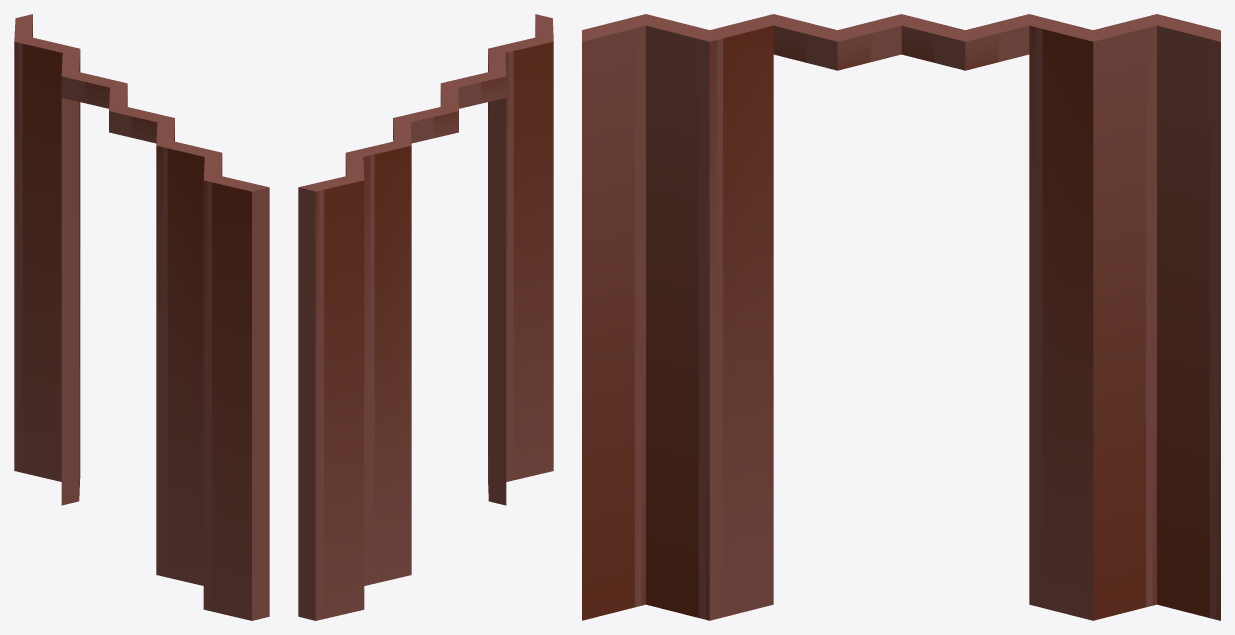
The model's file is Environment_RifledDoorway_01.fbx.
3 renders of one model, left to right at view 1: azimuth 30°, elevation 25°; view 2: azimuth 150°, elevation 25°; view 3: azimuth 270°, elevation 25°, orthographic. The views are drawn at different scales.
Parts seen in each view (by area): view 1: Environment_RifledDoorway_01; view 2: Environment_RifledDoorway_01; view 3: Environment_RifledDoorway_01.
Part boxes in pixels (x1=…): Environment_RifledDoorway_01: x1=14, y1=14, x2=269, y2=620; Environment_RifledDoorway_01: x1=298, y1=14, x2=553, y2=620; Environment_RifledDoorway_01: x1=582, y1=14, x2=1220, y2=620.
Bounding box in the file's own units: 20.69 × 200 × 200.
